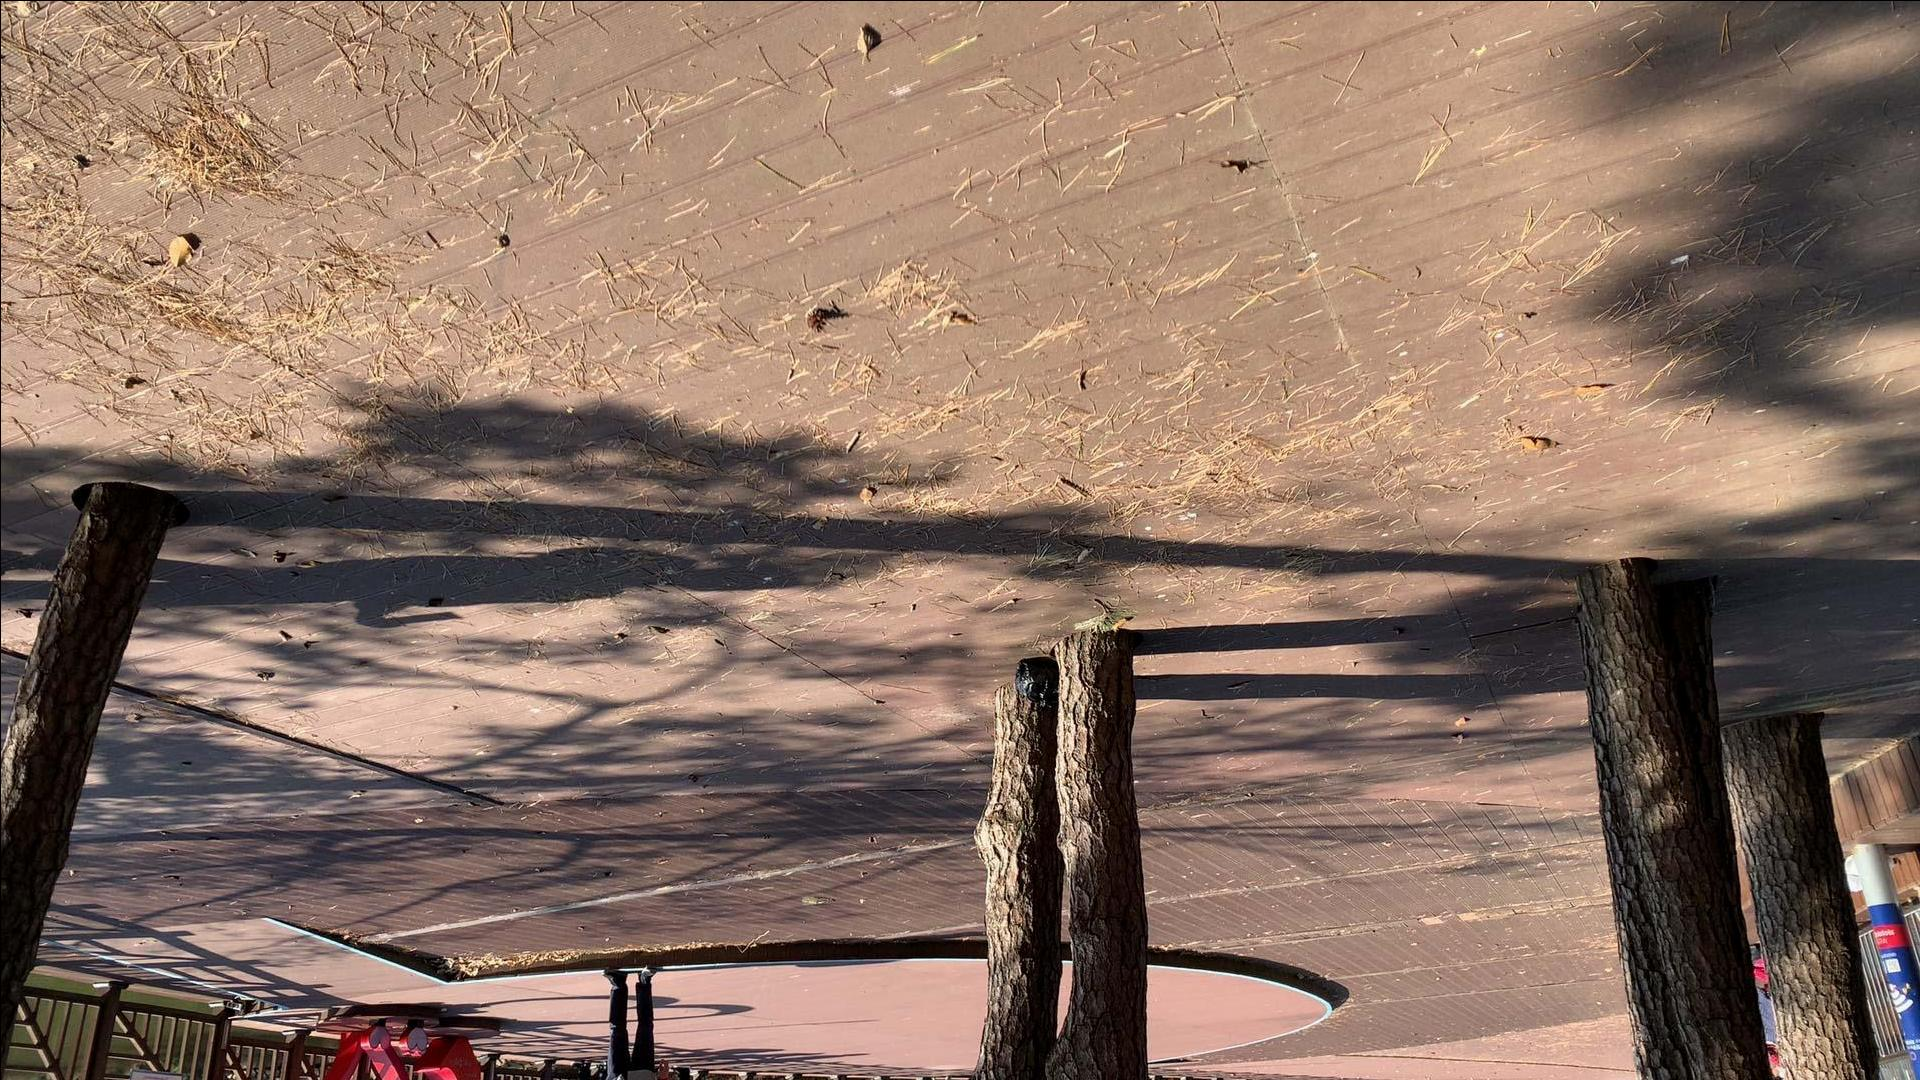black_bag: (1011, 657, 1063, 706)
